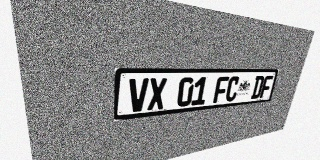0: (176, 77, 195, 107)
1: (191, 77, 209, 106)
C: (224, 76, 240, 102)
D: (250, 76, 265, 99)
F: (213, 76, 229, 103), (259, 76, 273, 98)
V: (128, 78, 149, 113)
X: (147, 78, 167, 110)
